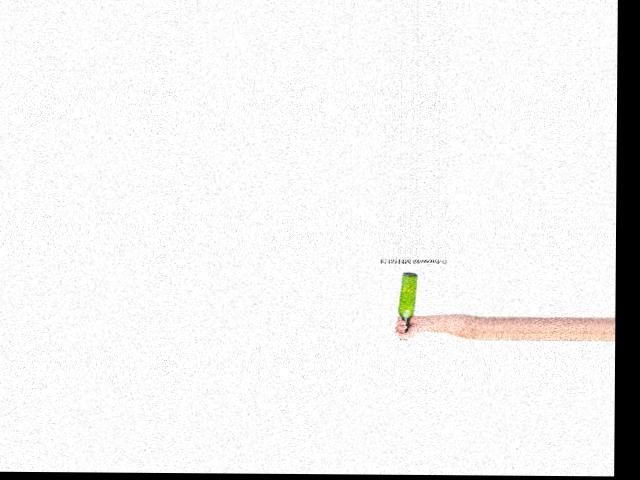beer: (398, 271, 418, 340)
